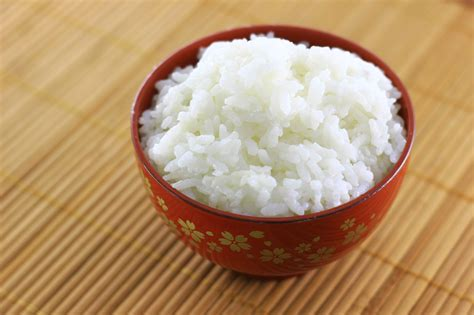rice: (149, 47, 392, 201)
